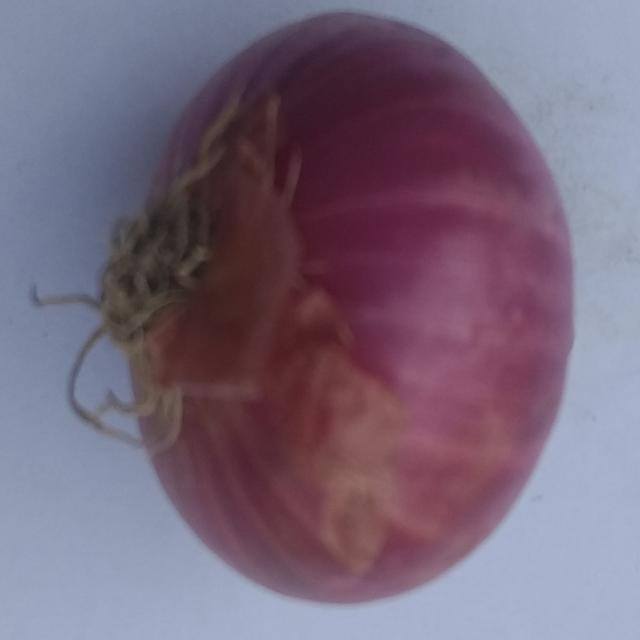onion: (27, 10, 583, 610)
